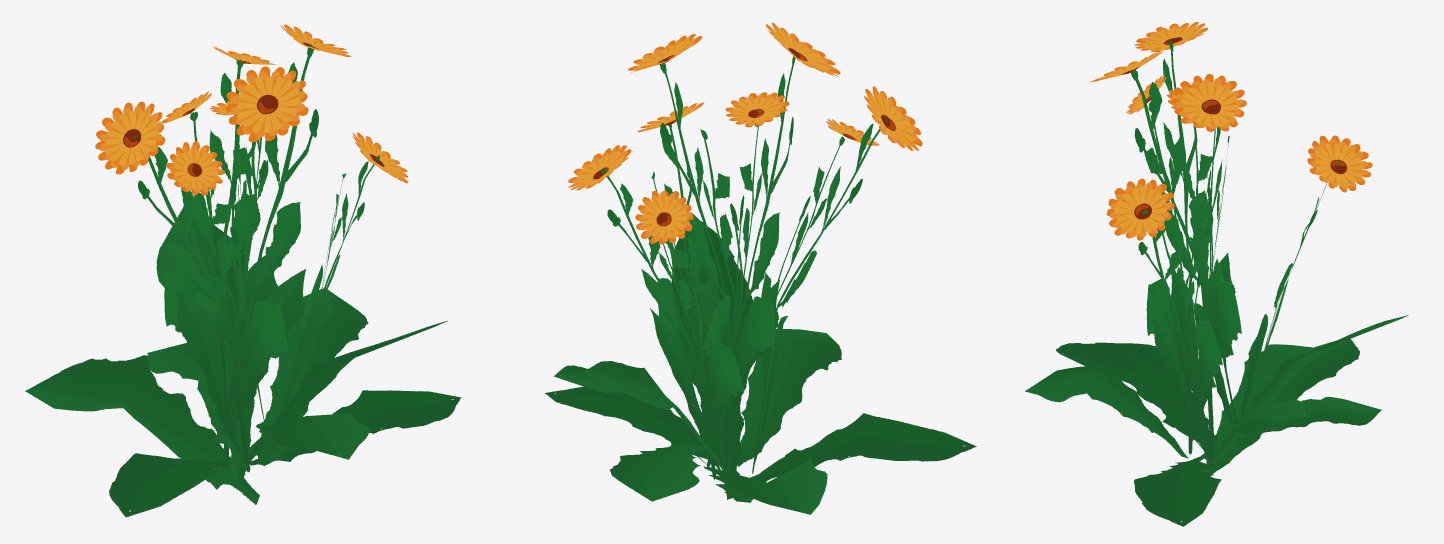
The model's file is PT_Marigold_01.fbx.
The picture shows the model from 3 angles, left to right: view 1: azimuth 30°, elevation 25°; view 2: azimuth 150°, elevation 25°; view 3: azimuth 270°, elevation 25°; orthographic projection. The views are drawn at different scales.
Parts seen in each view (by area): view 1: PT_Marigold_01_LOD0; view 2: PT_Marigold_01_LOD0; view 3: PT_Marigold_01_LOD0.
Part boxes in pixels (box(x1,y1,x2,y2)): PT_Marigold_01_LOD0: box(25, 24, 460, 517); PT_Marigold_01_LOD0: box(545, 22, 976, 514); PT_Marigold_01_LOD0: box(1025, 22, 1408, 526).
Size of what is drawn, in the model's own units: 70.79 by 75.87 by 63.87.
